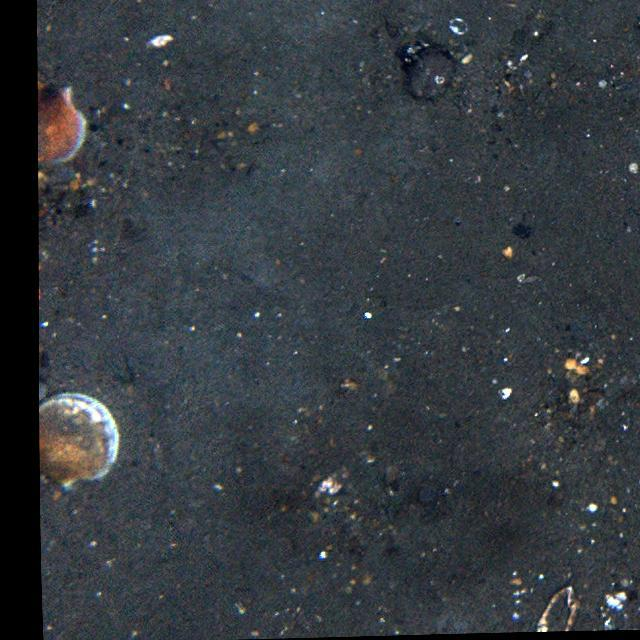scallop: (39, 394, 120, 485), (36, 78, 87, 170)
